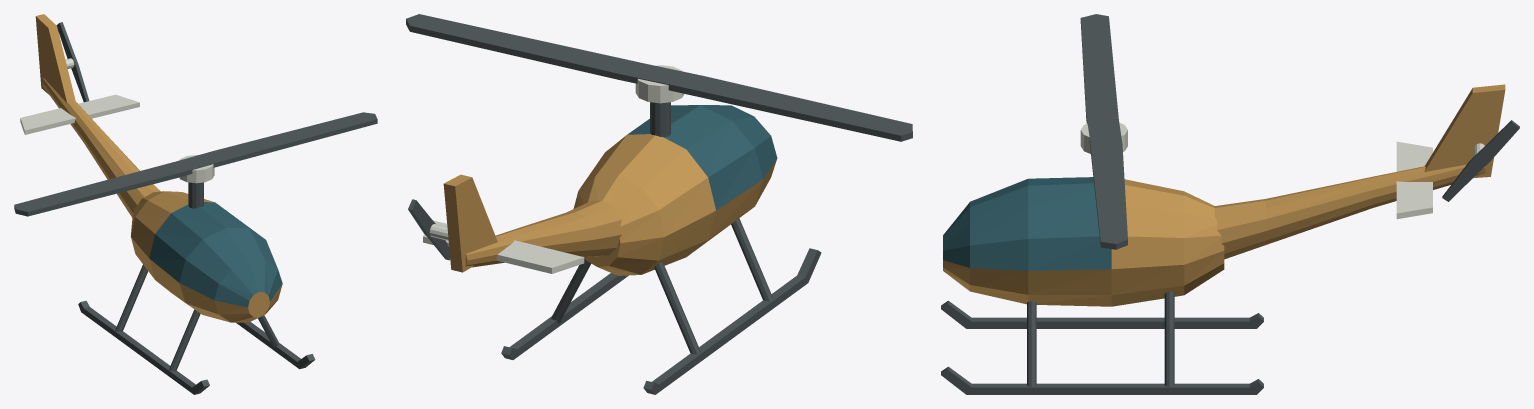
3 renders of one model, left to right at view 1: azimuth 30°, elevation 25°; view 2: azimuth 150°, elevation 25°; view 3: azimuth 270°, elevation 25°, orthographic. The views are drawn at different scales.
Parts seen in each view (by area): view 1: WholeDeepCabinAndIntegralOpaqueCanopy, WholeOpposedMainRotor, WholeLongRisingTaperedTailBoom, WholeTallTailFin, WholeCrossingTailplane, LeftWholeUpturnedSkid, RightWholeUpturnedSkid, WholeVerticalTailRotor, LeftRearWholeSplayedStrut, LeftFrontWholeSplayedStrut, WholeMainRotorHub, WholeMainRotorMast; view 2: WholeDeepCabinAndIntegralOpaqueCanopy, WholeOpposedMainRotor, WholeLongRisingTaperedTailBoom, WholeTallTailFin, LeftWholeUpturnedSkid, WholeCrossingTailplane, RightWholeUpturnedSkid, LeftRearWholeSplayedStrut, LeftFrontWholeSplayedStrut, WholeMainRotorHub, WholeVerticalTailRotor, WholeMainRotorMast (+1 smaller); view 3: WholeDeepCabinAndIntegralOpaqueCanopy, WholeLongRisingTaperedTailBoom, WholeOpposedMainRotor, RightWholeUpturnedSkid, WholeTallTailFin, LeftWholeUpturnedSkid, WholeCrossingTailplane, WholeVerticalTailRotor, RightRearWholeSplayedStrut, RightFrontWholeSplayedStrut.
Boxes of the visible parts, left/top/right/bottom form: WholeDeepCabinAndIntegralOpaqueCanopy: left=130, top=191, right=282, bottom=322; WholeOpposedMainRotor: left=14, top=112, right=377, bottom=216; WholeLongRisingTaperedTailBoom: left=42, top=78, right=160, bottom=217; WholeTallTailFin: left=35, top=14, right=75, bottom=102; WholeCrossingTailplane: left=20, top=94, right=139, bottom=134; LeftWholeUpturnedSkid: left=78, top=300, right=209, bottom=394; RightWholeUpturnedSkid: left=236, top=322, right=315, bottom=369; WholeVerticalTailRotor: left=56, top=22, right=89, bottom=102; LeftRearWholeSplayedStrut: left=115, top=264, right=148, bottom=331; LeftFrontWholeSplayedStrut: left=169, top=309, right=200, bottom=370; WholeMainRotorHub: left=179, top=155, right=214, bottom=183; WholeMainRotorMast: left=188, top=182, right=203, bottom=208; WholeDeepCabinAndIntegralOpaqueCanopy: left=573, top=105, right=777, bottom=275; WholeOpposedMainRotor: left=406, top=14, right=912, bottom=141; WholeLongRisingTaperedTailBoom: left=465, top=200, right=621, bottom=267; WholeTallTailFin: left=443, top=174, right=497, bottom=272; LeftWholeUpturnedSkid: left=643, top=248, right=821, bottom=394; WholeCrossingTailplane: left=423, top=220, right=584, bottom=273; RightWholeUpturnedSkid: left=501, top=273, right=628, bottom=359; LeftRearWholeSplayedStrut: left=654, top=262, right=700, bottom=354; LeftFrontWholeSplayedStrut: left=731, top=218, right=773, bottom=301; WholeMainRotorHub: left=635, top=65, right=684, bottom=103; WholeVerticalTailRotor: left=408, top=199, right=450, bottom=260; WholeMainRotorMast: left=650, top=102, right=670, bottom=136; WholeDeepCabinAndIntegralOpaqueCanopy: left=943, top=177, right=1224, bottom=306; WholeLongRisingTaperedTailBoom: left=1214, top=164, right=1485, bottom=259; WholeOpposedMainRotor: left=1080, top=14, right=1127, bottom=249; RightWholeUpturnedSkid: left=941, top=366, right=1263, bottom=394; WholeTallTailFin: left=1424, top=84, right=1505, bottom=177; LeftWholeUpturnedSkid: left=941, top=300, right=1263, bottom=328; WholeCrossingTailplane: left=1396, top=141, right=1432, bottom=219; WholeVerticalTailRotor: left=1442, top=120, right=1519, bottom=201; RightRearWholeSplayedStrut: left=1164, top=291, right=1174, bottom=387; RightFrontWholeSplayedStrut: left=1027, top=301, right=1036, bottom=387.
Bounding box in the file's own units: 3 × 1.66 × 3.19.
